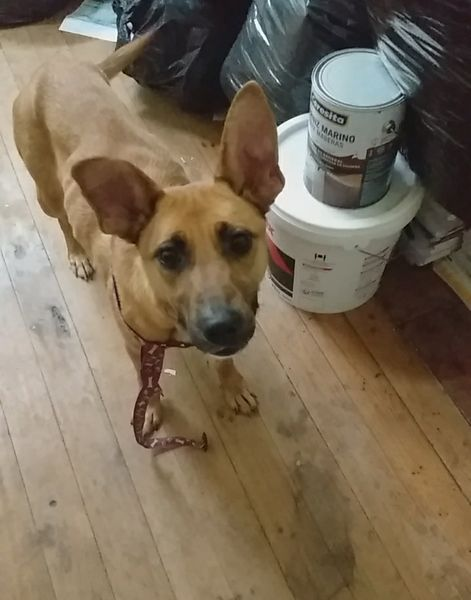dog: (3, 24, 295, 467)
